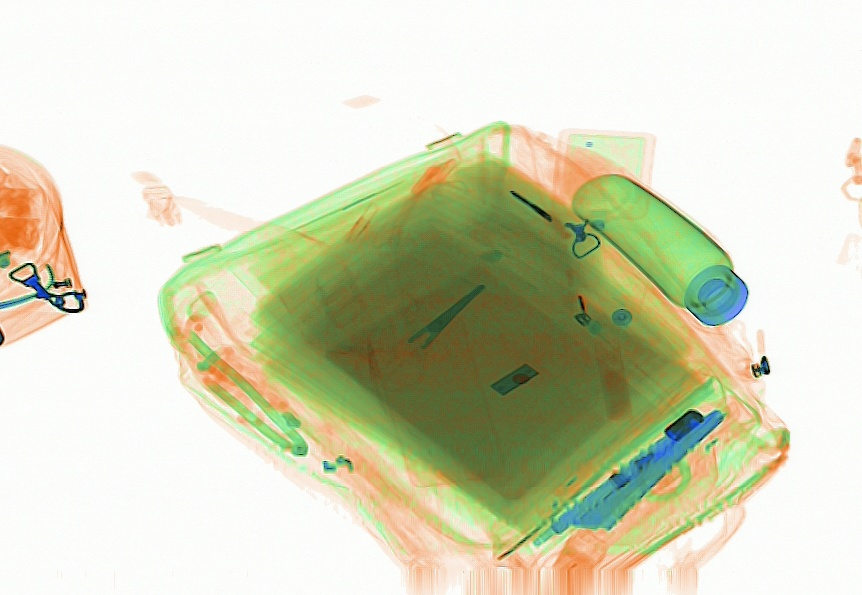scissors: (368, 281, 488, 392)
